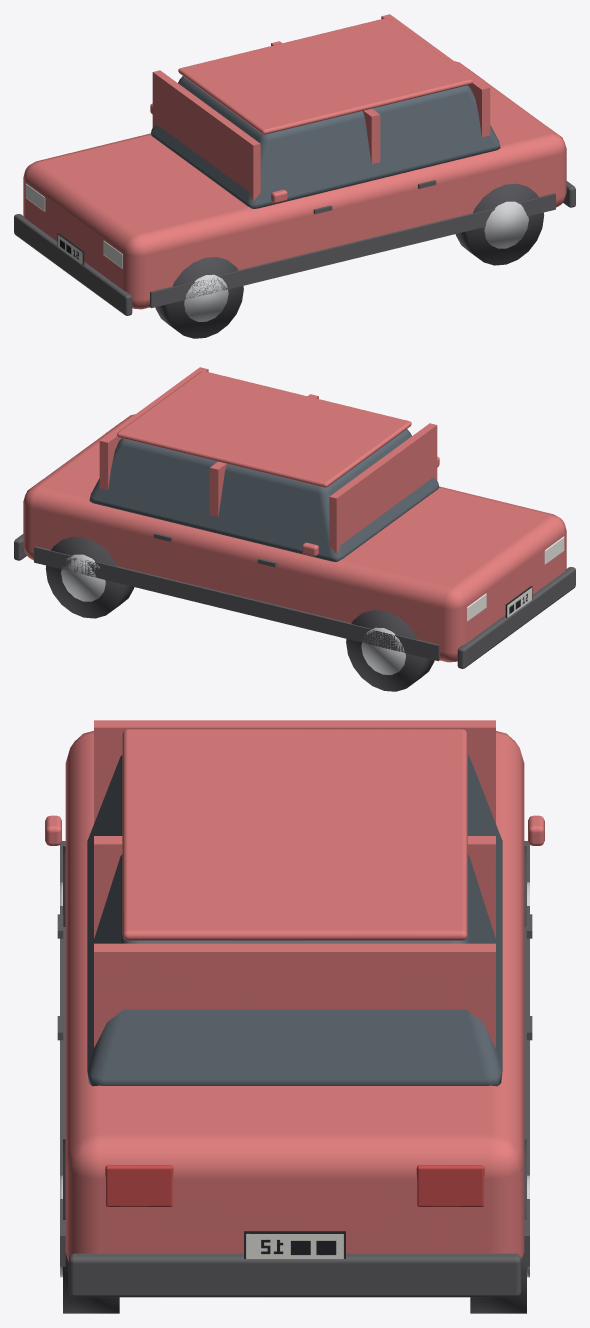
File: barrio.auto.fbx
The picture shows the model from 3 angles, top to bottom: view 1: azimuth 30°, elevation 25°; view 2: azimuth 150°, elevation 25°; view 3: azimuth 270°, elevation 25°; orthographic projection. The views are drawn at different scales.
Parts seen in each view (by area): view 1: Carroceria, Techo del auto, Vidrios, Pilar.001, Moldura.001, Rueda.001, Rueda.003, Parachoque, Llanta.003, Llanta.001, Pilar.002, Pilar (+1 smaller); view 2: Carroceria, Techo del auto, Vidrios, Moldura, Pilar.001, Rueda, Rueda.002, Parachoque, Llanta, Pilar.002, Llanta.002, Pilar (+1 smaller); view 3: Carroceria, Techo del auto, Vidrios, Pilar.002, Parachoque.001, Pilar.001, Pilar, Patente.001, Luz trasera, Luz trasera.001, Moldura, Moldura.001 (+2 smaller).
Part boxes in pixels (left/top/right/bottom): Carroceria: left=23, top=61, right=566, bottom=309; Techo del auto: left=178, top=18, right=472, bottom=134; Vidrios: left=150, top=76, right=500, bottom=208; Pilar.001: left=152, top=70, right=260, bottom=200; Moldura.001: left=150, top=193, right=555, bottom=308; Rueda.001: left=455, top=183, right=544, bottom=265; Rueda.003: left=155, top=257, right=243, bottom=338; Parachoque: left=14, top=214, right=132, bottom=315; Llanta.003: left=184, top=274, right=228, bottom=321; Llanta.001: left=484, top=201, right=528, bottom=248; Pilar.002: left=381, top=14, right=490, bottom=137; Pilar: left=271, top=41, right=380, bottom=163; Carroceria: left=23, top=414, right=566, bottom=662; Techo del auto: left=117, top=371, right=411, bottom=487; Vidrios: left=89, top=429, right=439, bottom=561; Moldura: left=34, top=546, right=439, bottom=661; Pilar.001: left=329, top=423, right=437, bottom=553; Rueda: left=45, top=536, right=134, bottom=618; Rueda.002: left=346, top=610, right=434, bottom=691; Parachoque: left=457, top=567, right=575, bottom=668; Llanta: left=61, top=554, right=105, bottom=601; Pilar.002: left=99, top=367, right=208, bottom=490; Llanta.002: left=361, top=627, right=405, bottom=674; Pilar: left=209, top=394, right=318, bottom=516; Carroceria: left=65, top=731, right=524, bottom=1261; Techo del auto: left=122, top=729, right=467, bottom=940; Vidrios: left=87, top=755, right=502, bottom=1086; Pilar.002: left=94, top=943, right=495, bottom=1047; Parachoque.001: left=68, top=1253, right=521, bottom=1297; Pilar.001: left=94, top=720, right=495, bottom=823; Pilar: left=94, top=836, right=495, bottom=938; Patente.001: left=244, top=1231, right=345, bottom=1258; Luz trasera: left=416, top=1165, right=484, bottom=1206; Luz trasera.001: left=105, top=1165, right=173, bottom=1206; Moldura: left=524, top=841, right=529, bottom=1266; Moldura.001: left=60, top=841, right=65, bottom=1266.
Size of the model in its own units: 3.68 by 1.39 by 1.77.
10 materials, 1 textured.
